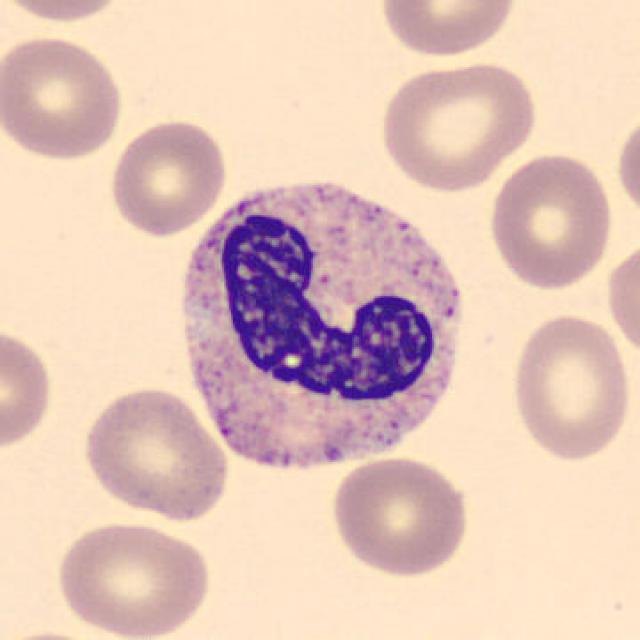Neutrophil: (165, 160, 475, 492), (165, 162, 475, 487)
RBC: (375, 55, 541, 194), (76, 382, 233, 524), (506, 308, 634, 464), (52, 518, 215, 640), (485, 148, 617, 291), (327, 453, 475, 578), (2, 32, 128, 162), (105, 115, 231, 238), (375, 0, 521, 60), (0, 323, 55, 455), (602, 234, 640, 363), (611, 105, 640, 227), (0, 0, 133, 26), (0, 627, 128, 640)
